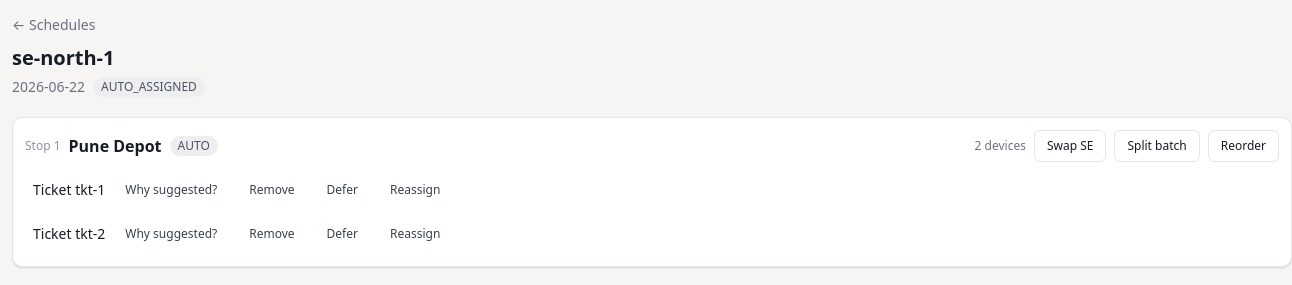
Scenario: ZM override — Defer ticket (Issue 13b AC#3) › defers a ticket to a date with a mandatory reason and reflects OVERRIDDEN
The image size is (1292, 285).
Click the button "Defer" in the row of "tkt-2" at (342, 234), box [315, 218, 370, 250]
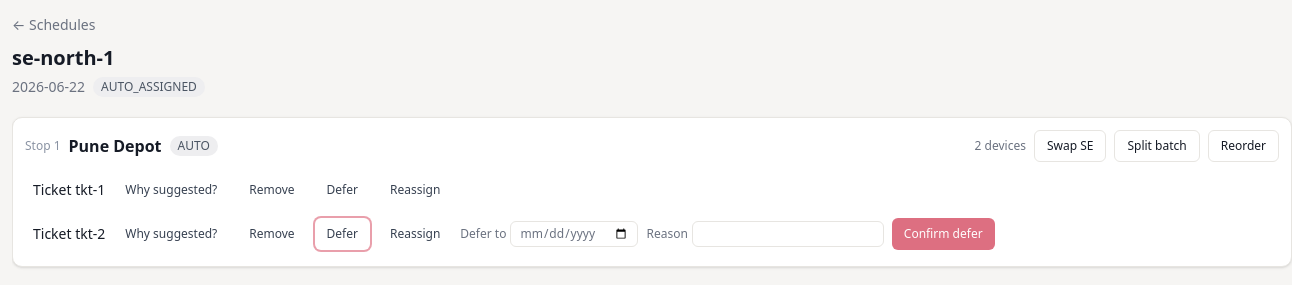
Result: the button "Confirm defer" is disabled at [892, 218, 995, 250]
Type "2026-06-25" into the date field labelled "Defer to" at (574, 234), box [510, 221, 638, 247]
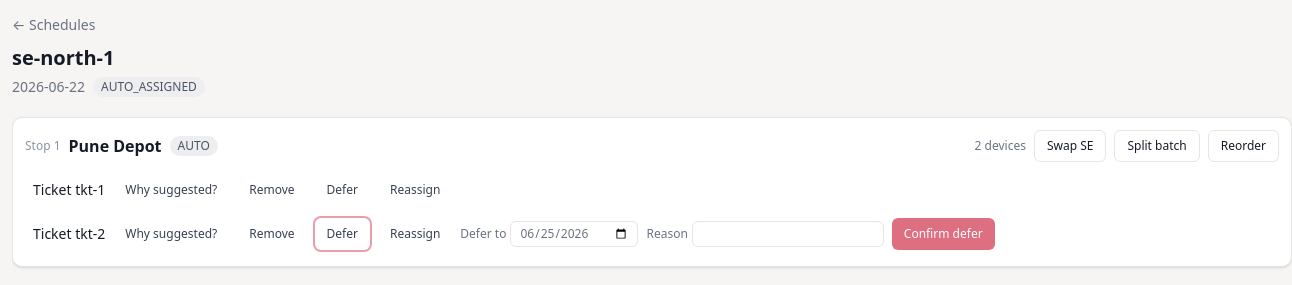
Type "awaiting access" into the field labelled "Reason" at (788, 234), box [692, 221, 884, 247]
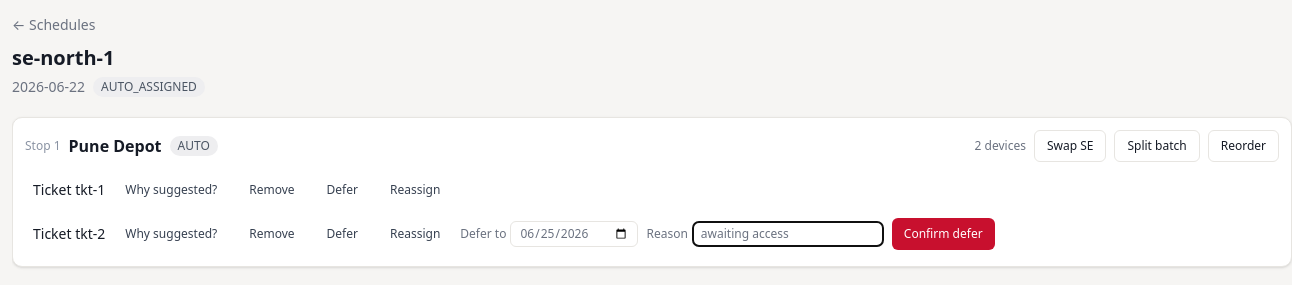
Result: the button "Confirm defer" is enabled
Click the button "Confirm defer" at (943, 234), box [892, 218, 995, 250]
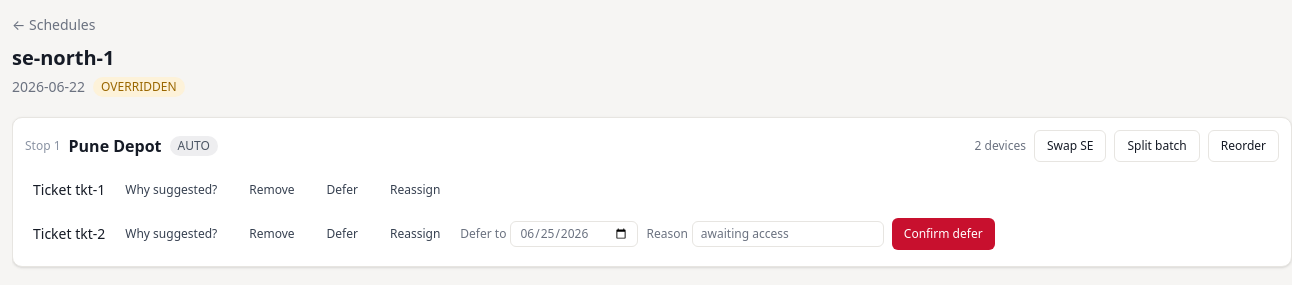
Result: the element with test id "schedule-status-OVERRIDDEN" is shown at [93, 76, 184, 97]
